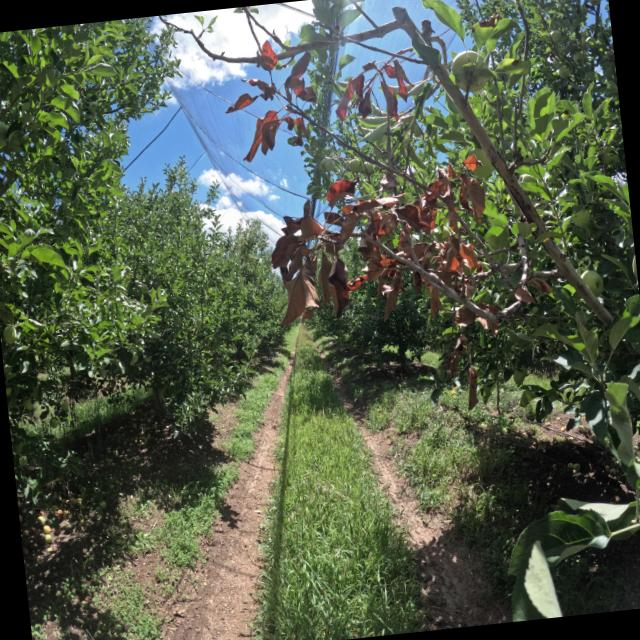-FireBlight-: (231, 29, 544, 411)
